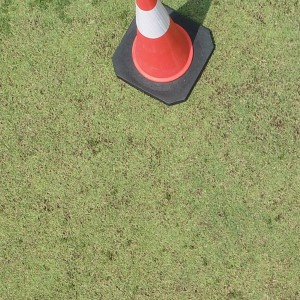traffic cone: (110, 1, 216, 106)
